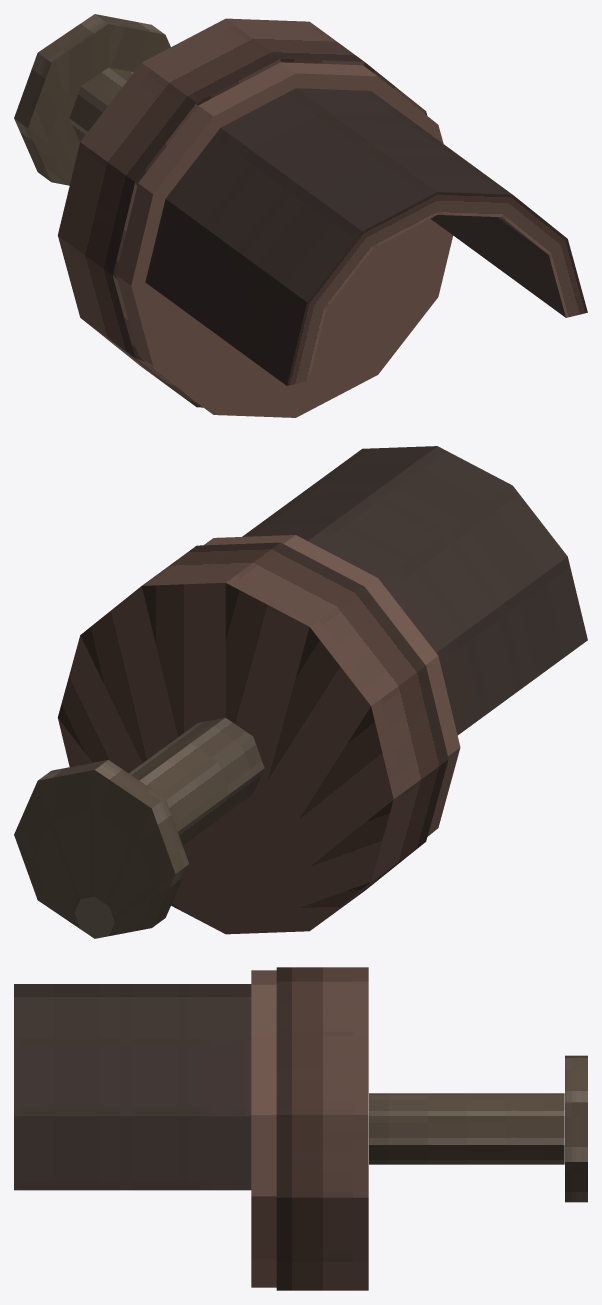
Rendered from pz_g019_mall_chair.obj.
The picture shows the model from 3 angles, top to bottom: view 1: azimuth 30°, elevation 25°; view 2: azimuth 150°, elevation 25°; view 3: azimuth 270°, elevation 25°; orthographic projection. The views are drawn at different scales.
Visible parts, largest first — view 1: back_outer, seat_cushion_cap1, seat_rim_side, back_top, swivel_2_cap1, seat_cushion_side, back_inner, swivel_2_side, seat_rim_cap1, swivel_1_side; view 2: seat_rim_cap0, back_outer, seat_rim_side, swivel_2_cap0, swivel_1_side, seat_cushion_side, swivel_2_side; view 3: back_outer, seat_rim_side, swivel_1_side, seat_cushion_side, swivel_2_side.
Boxes of the visible parts, bbox=[...] form: back_outer: bbox=[145, 88, 512, 385]; seat_cushion_cap1: bbox=[131, 73, 453, 417]; seat_rim_side: bbox=[57, 18, 364, 404]; back_top: bbox=[287, 192, 587, 385]; swivel_2_cap1: bbox=[28, 24, 170, 185]; seat_cushion_side: bbox=[116, 62, 377, 412]; back_inner: bbox=[430, 215, 565, 317]; swivel_2_side: bbox=[14, 14, 164, 181]; seat_rim_cap1: bbox=[112, 59, 427, 407]; swivel_1_side: bbox=[69, 67, 133, 141]; seat_rim_cap0: bbox=[57, 582, 393, 934]; back_outer: bbox=[242, 446, 587, 735]; seat_rim_side: bbox=[142, 542, 448, 928]; swivel_2_cap0: bbox=[14, 770, 175, 938]; swivel_1_side: bbox=[129, 717, 264, 845]; seat_cushion_side: bbox=[204, 535, 460, 836]; swivel_2_side: bbox=[38, 760, 188, 927]; back_outer: bbox=[14, 984, 251, 1190]; seat_rim_side: bbox=[276, 967, 368, 1290]; swivel_1_side: bbox=[369, 1093, 564, 1164]; seat_cushion_side: bbox=[251, 970, 276, 1287]; swivel_2_side: bbox=[565, 1055, 587, 1202].
Bounding box in the file's own units: 0.5358 × 0.5358 × 0.9468.
Materials: 1 (1 with a texture image).
